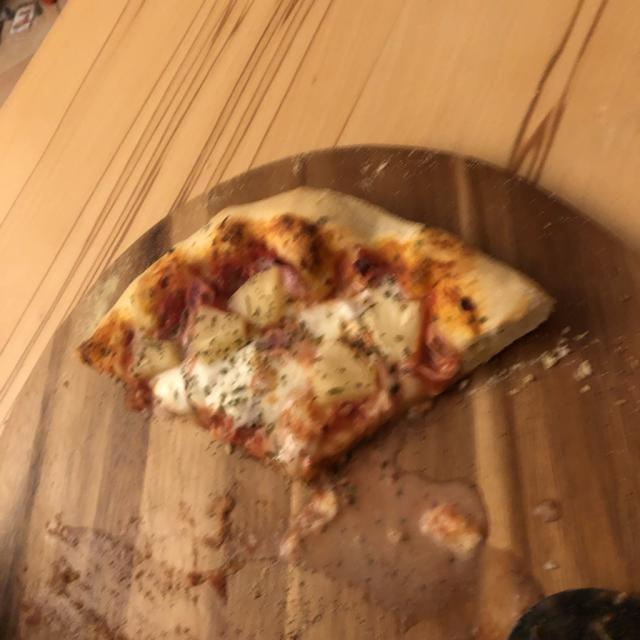pineapple: (122, 270, 419, 403)
pizza: (89, 203, 543, 485)
